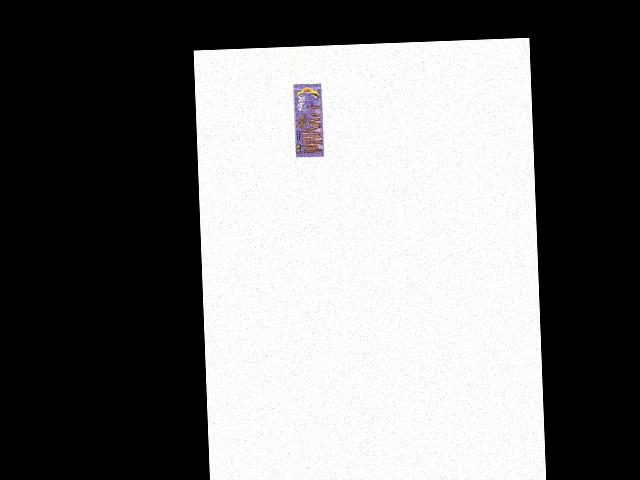chocolate: (292, 82, 328, 159)
